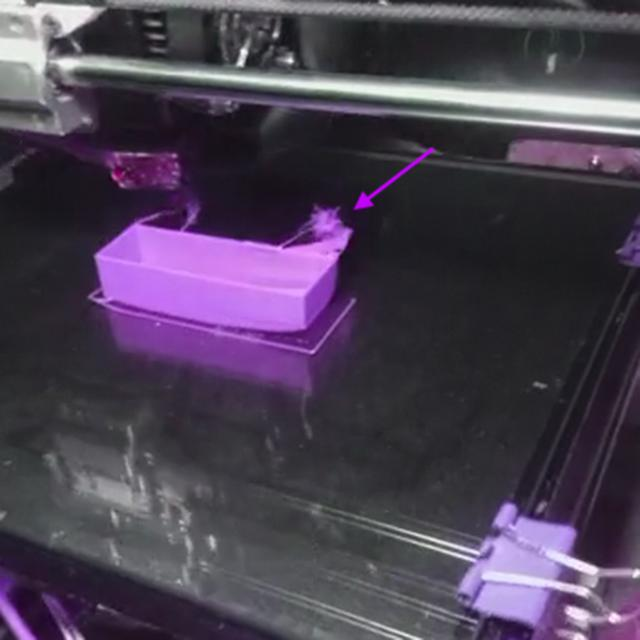Spaghetti: (306, 204, 343, 236)
